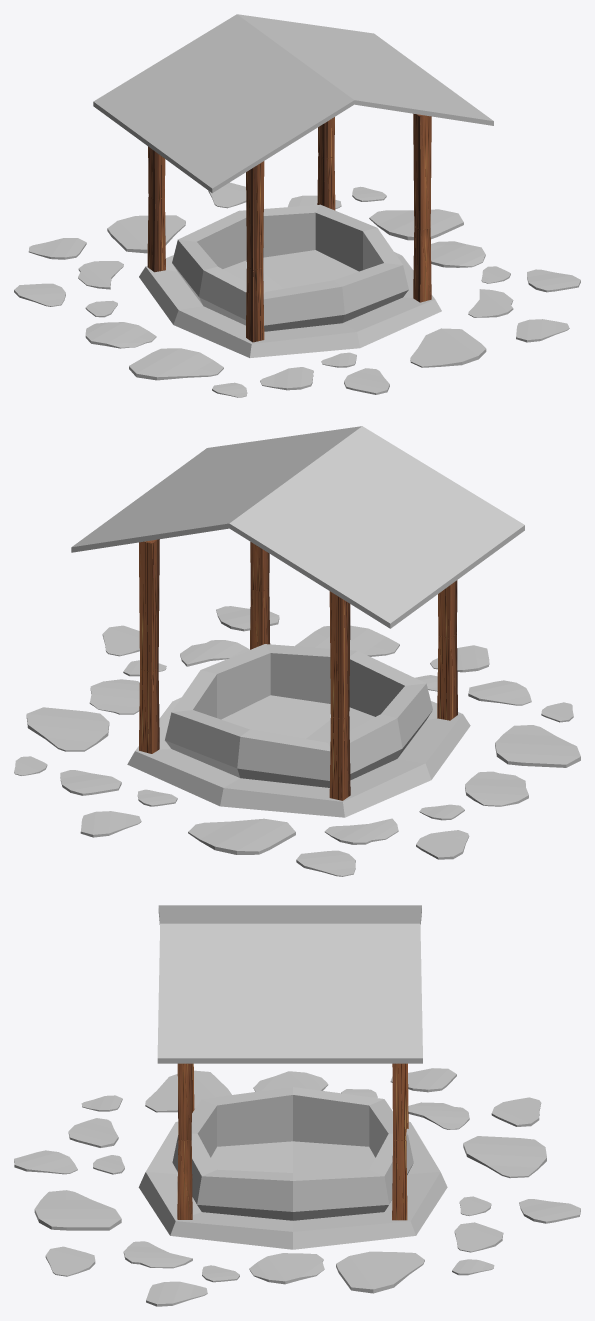
The model's file is BombSpawner.fbx.
The picture shows the model from 3 angles, top to bottom: view 1: azimuth 30°, elevation 25°; view 2: azimuth 150°, elevation 25°; view 3: azimuth 270°, elevation 25°; orthographic projection. The views are drawn at different scales.
Visible parts, largest first — view 1: Plane.022, Cube, Cube.003, Cube.004, Plane.003, Plane, Cube.002, Plane.010, Plane.007, Cube.001, Plane.006, Plane.013 (+9 smaller); view 2: Plane.022, Cube, Cube.001, Cube.002, Plane.007, Plane.003, Plane.010, Cube.004, Cube.003, Plane.006, Plane, Plane.013 (+10 smaller); view 3: Plane.022, Cube, Plane.010, Plane, Plane.007, Cube.001, Cube.003, Plane.013, Plane.003, Plane.015, Plane.014, Plane.017 (+9 smaller).
Boxes of the visible parts, x1,y1,x2,y2 form: Plane.022: [93, 14, 493, 193]; Cube: [139, 204, 441, 357]; Cube.003: [413, 113, 431, 302]; Cube.004: [246, 161, 264, 342]; Plane.003: [129, 348, 223, 380]; Plane: [410, 328, 486, 367]; Cube.002: [147, 146, 165, 272]; Plane.010: [369, 209, 463, 240]; Plane.007: [107, 215, 185, 253]; Cube.001: [317, 117, 335, 210]; Plane.006: [85, 322, 156, 348]; Plane.013: [431, 241, 485, 267]; Plane.022: [71, 426, 524, 628]; Cube: [127, 644, 470, 817]; Cube.001: [139, 539, 159, 753]; Cube.002: [329, 591, 350, 800]; Plane.007: [188, 818, 295, 854]; Plane.003: [495, 725, 580, 767]; Plane.010: [26, 707, 109, 751]; Cube.004: [437, 580, 457, 720]; Cube.003: [250, 542, 270, 649]; Plane.006: [465, 771, 528, 806]; Plane: [295, 625, 399, 656]; Plane.013: [89, 679, 139, 714]; Plane.022: [157, 905, 422, 1063]; Cube: [138, 1087, 447, 1249]; Plane.010: [336, 1251, 424, 1293]; Plane: [34, 1190, 121, 1230]; Plane.007: [463, 1136, 546, 1178]; Cube.001: [392, 1063, 407, 1220]; Cube.003: [177, 1063, 192, 1219]; Plane.013: [249, 1253, 324, 1284]; Plane.003: [145, 1070, 231, 1112]; Plane.015: [123, 1241, 192, 1268]; Plane.014: [408, 1102, 469, 1129]; Plane.017: [146, 1281, 207, 1306].
Bounding box in the file's own units: 612 × 322 × 621.
